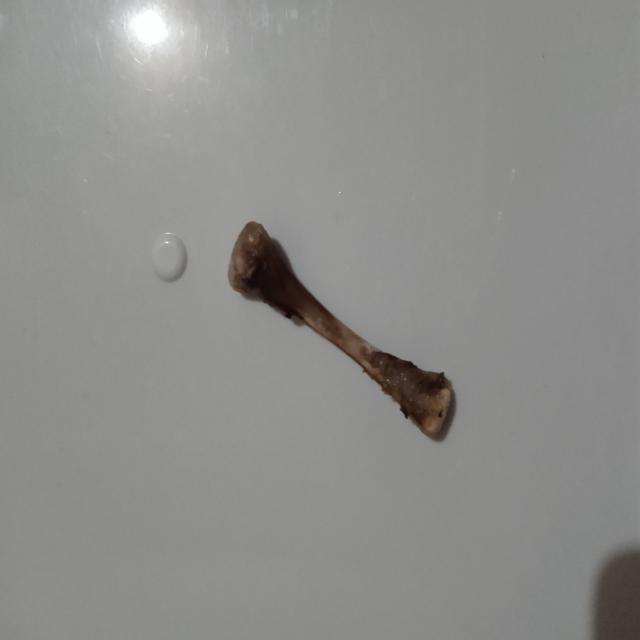bone: (223, 214, 460, 442)
